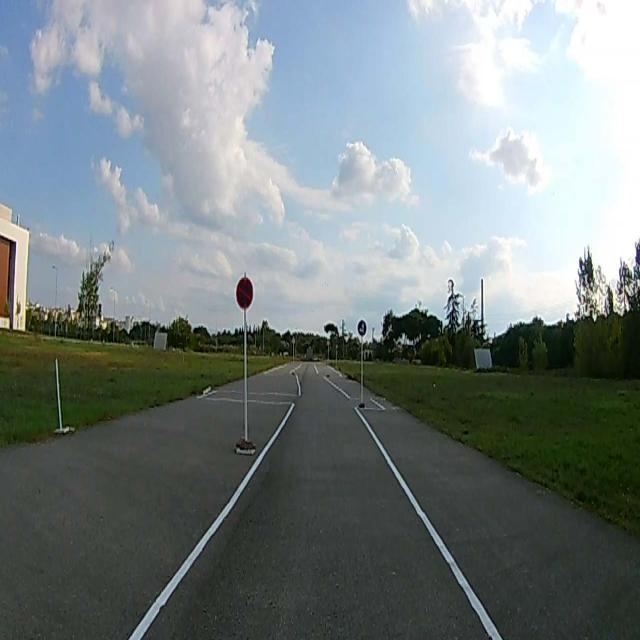parkyasak: (235, 278, 254, 310)
